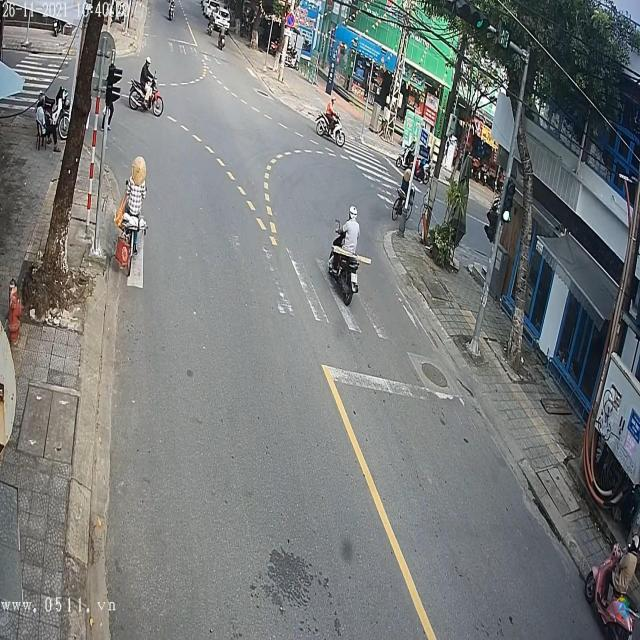motorcycle: (327, 242, 369, 308), (127, 76, 165, 120), (316, 110, 345, 142)
